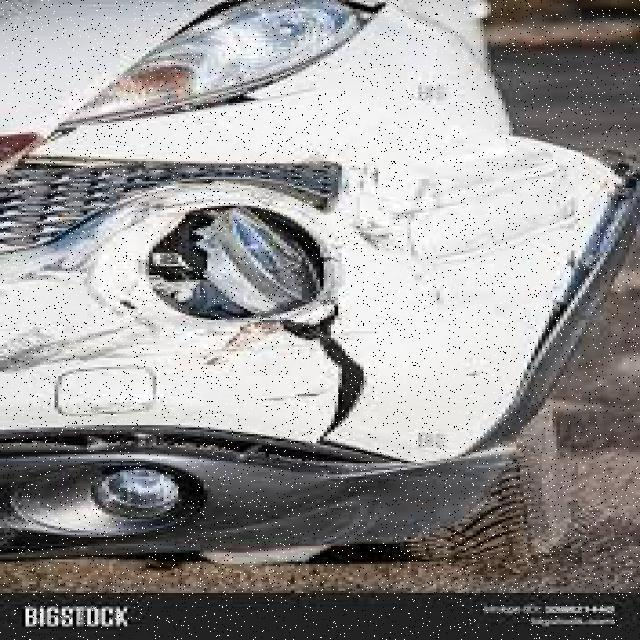front-bumper-dent: (1, 128, 612, 480)
